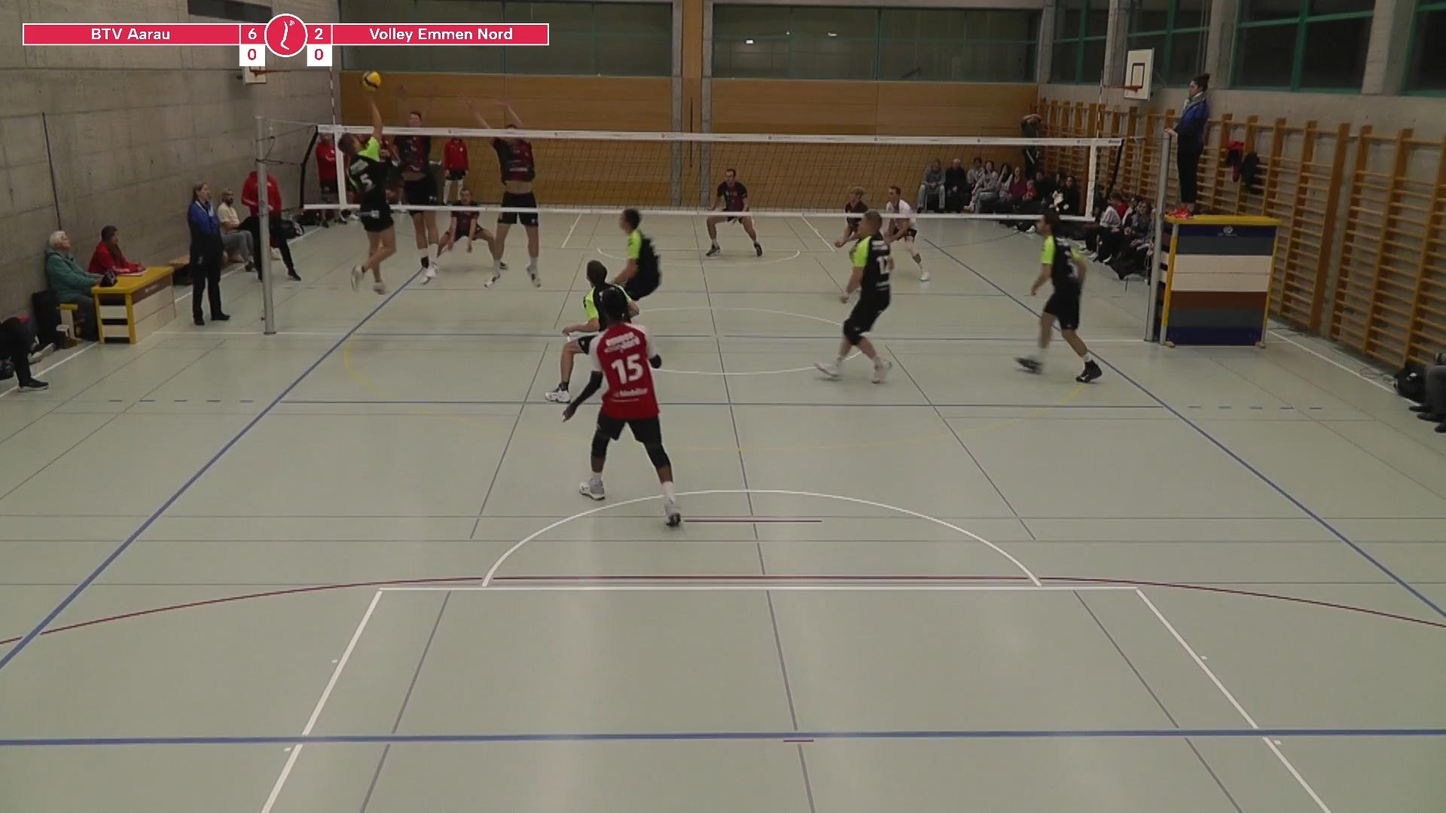attacco: (327, 92, 412, 298)
muro: (471, 90, 548, 285), (375, 93, 448, 292)
